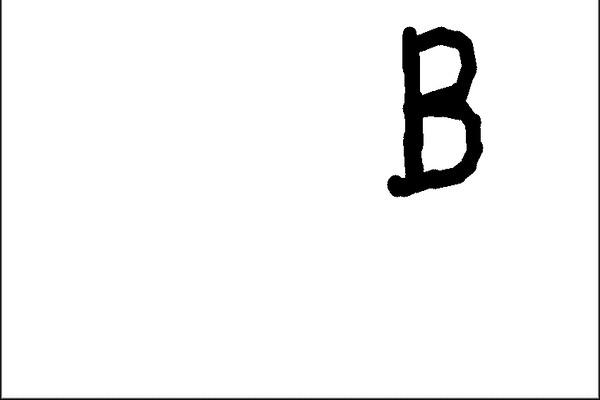B: (377, 16, 488, 202)
